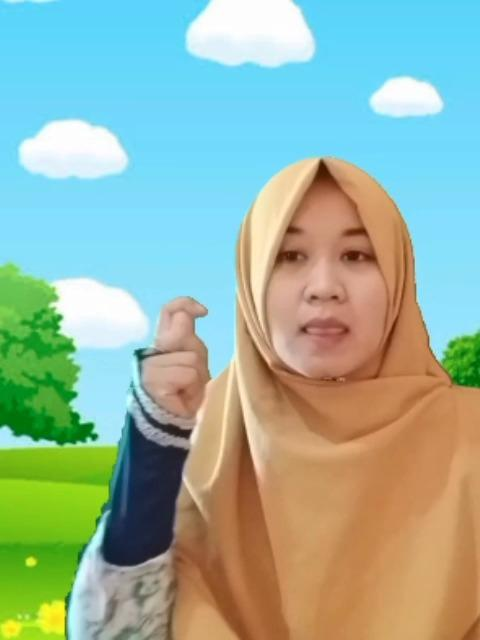T: (130, 295, 213, 429)
